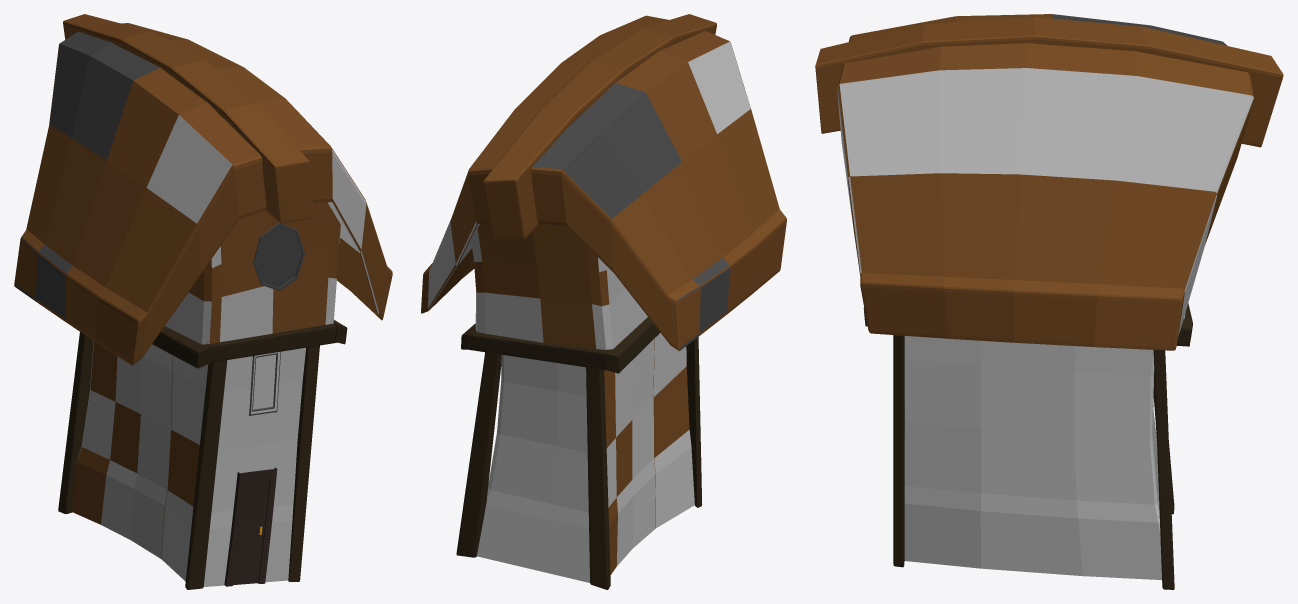
Rendered from house_c.fbx.
3 views of the same model, side by side, from view 1: azimuth 30°, elevation 25°; view 2: azimuth 150°, elevation 25°; view 3: azimuth 270°, elevation 25° (orthographic). The views are drawn at different scales.
Parts seen in each view (by area): view 1: house_c; view 2: house_c; view 3: house_c.
Part boxes in pixels (box(x1,y1,x2,y2)): house_c: box(14, 14, 392, 589); house_c: box(421, 14, 786, 589); house_c: box(815, 14, 1283, 589).
Bounding box in the file's own units: 85.45 × 154 × 126.
